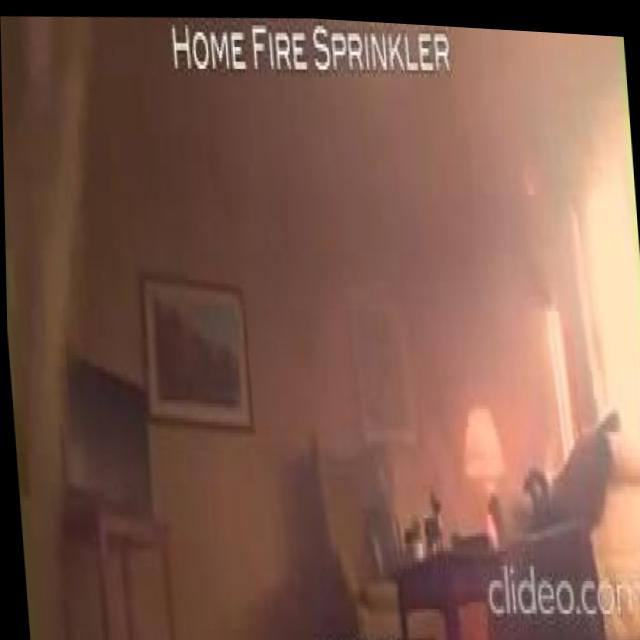fire: (483, 505, 498, 542)
